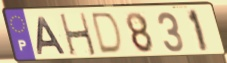1: (186, 9, 211, 54)
3: (157, 11, 185, 53)
8: (125, 11, 154, 54)
A: (36, 15, 68, 56)
D: (91, 11, 124, 57)
H: (58, 12, 99, 58)
